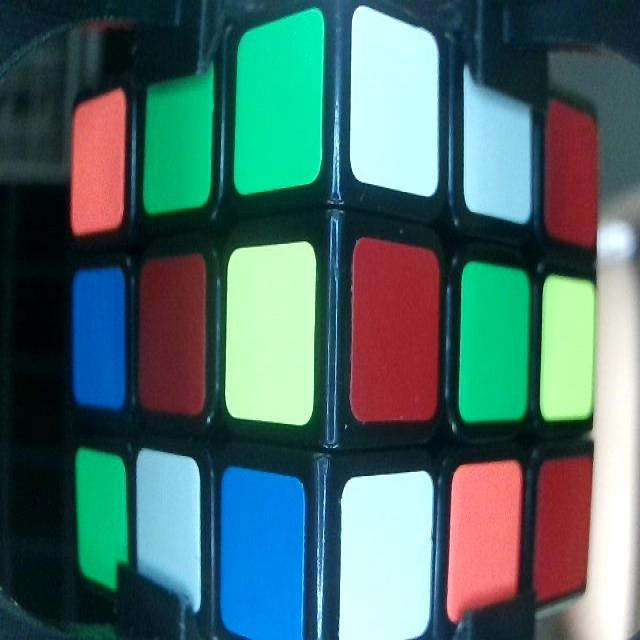b: (222, 479, 303, 622), (72, 276, 124, 402)
g: (242, 42, 324, 165), (464, 271, 526, 408), (149, 90, 211, 190), (79, 459, 126, 567)
o: (453, 472, 518, 593), (74, 106, 123, 221)
r: (356, 253, 438, 406), (145, 267, 203, 402), (550, 109, 594, 237), (542, 470, 589, 581)
w: (343, 486, 430, 619), (352, 32, 437, 168), (139, 462, 199, 595), (469, 96, 530, 204)
y: (234, 259, 312, 412), (547, 280, 588, 412)
